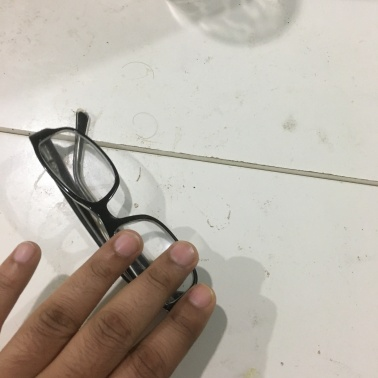glasses: (21, 122, 193, 304)
